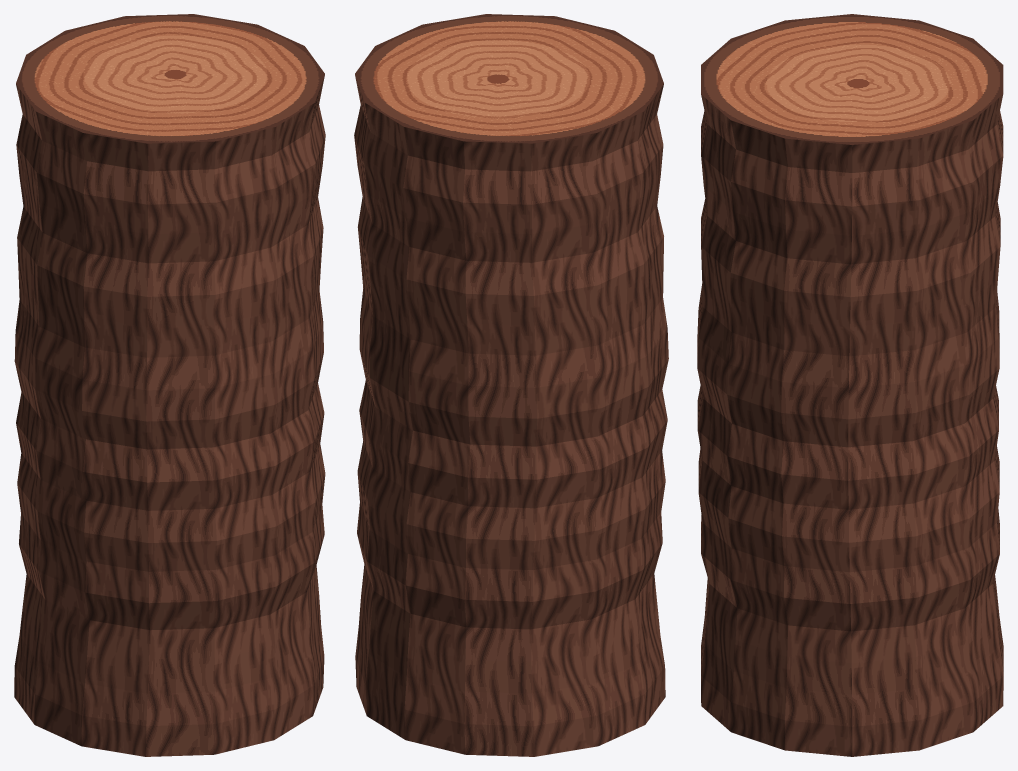
File: environment_redwood4_loghalf_v2.fbx
3 views of the same model, side by side, from view 1: azimuth 30°, elevation 25°; view 2: azimuth 150°, elevation 25°; view 3: azimuth 270°, elevation 25° (orthographic).
Parts seen in each view (by area): view 1: environment_redwood4_loghalf_v2; view 2: environment_redwood4_loghalf_v2; view 3: environment_redwood4_loghalf_v2.
Part boxes in pixels (left/top/right/bottom): environment_redwood4_loghalf_v2: left=14, top=14, right=325, bottom=756; environment_redwood4_loghalf_v2: left=354, top=14, right=668, bottom=756; environment_redwood4_loghalf_v2: left=697, top=14, right=1003, bottom=756.
Bounding box in the file's own units: 465 × 1000 × 453.
